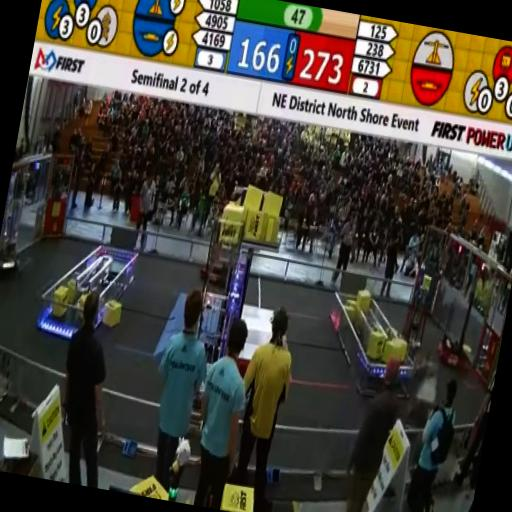robot: (198, 182, 246, 282), (395, 262, 442, 362), (435, 284, 484, 374), (0, 169, 39, 281)
